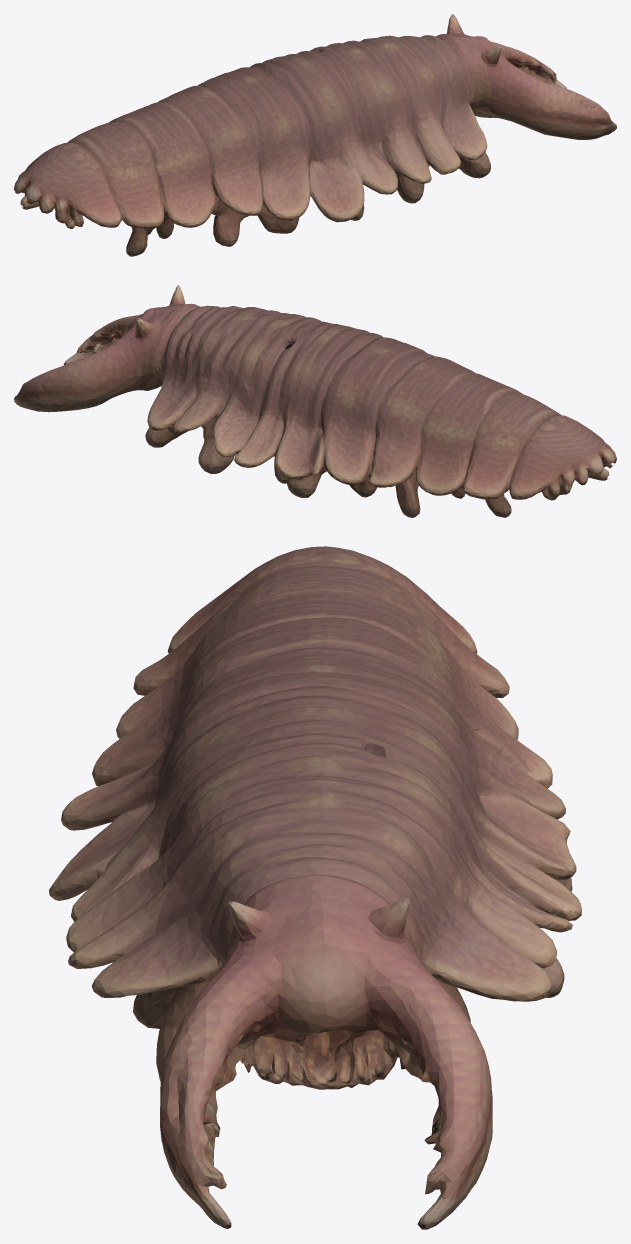
3 renders of one model, top to bottom at view 1: azimuth 30°, elevation 25°; view 2: azimuth 150°, elevation 25°; view 3: azimuth 270°, elevation 25°, orthographic. The views are drawn at different scales.
Visible parts, largest first — view 1: world; view 2: world; view 3: world.
Part boxes in pixels (x1,y1,x2,y2): world: (14,14,616,256); world: (14,285,616,517); world: (49,546,581,1229).
Bounding box in the file's own units: 1 × 0.2177 × 0.4069.
1 material, 1 textured.
